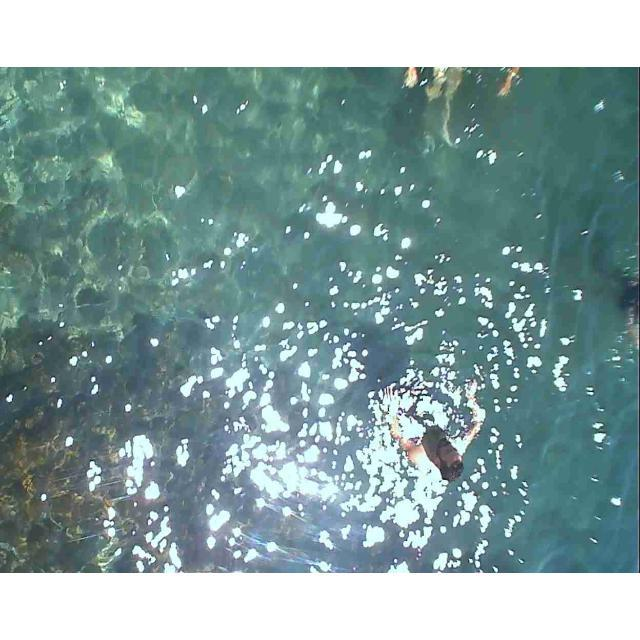human: (373, 371, 479, 493), (417, 67, 520, 148)
